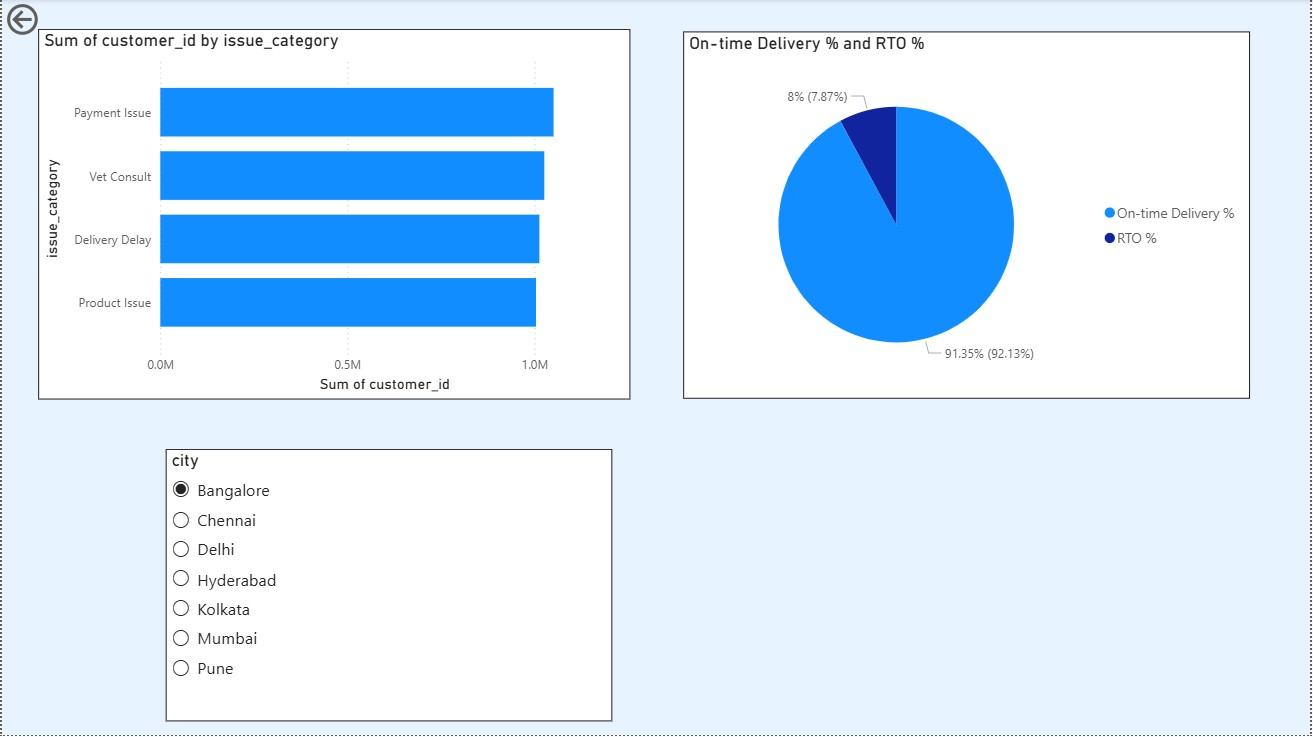

The page's visual inventory and layout, read from the dashboard file:
{"tool":"powerbi","page":{"name":"Page 3","canvas":[1280,720],"ordinal":2},"visuals":[{"type":"pieChart","fields":{"Y":["Date_Table.On-time Delivery %","Date_Table.RTO %"]},"box":[666.8,32.3,554.5,359.4],"z":0},{"type":"clusteredBarChart","fields":{"Category":["support_tickets.issue_category"],"Y":["Sum(support_tickets.customer_id)"]},"box":[35.7,28.8,579.1,362.3],"z":1000},{"type":"listSlicer","fields":{"Values":["orders.city"]},"box":[160,440.8,436.6,266.7],"z":2000},{"type":"actionButton","box":[0,0,100,40],"z":3000}]}

Visuals, with their boxes in screenshot pixels (x1, y1, x2, y2), scaled from the page's 1280x720 canvas onto the 1313x737 screenshot:
pieChart - Date_Table.On-time Delivery % x Date_Table.RTO %: select_region(684, 33, 1253, 401)
clusteredBarChart - support_tickets.issue_category x Sum(support_tickets.customer_id): select_region(37, 29, 631, 400)
listSlicer - orders.city: select_region(164, 451, 612, 724)
actionButton: select_region(0, 0, 103, 41)
